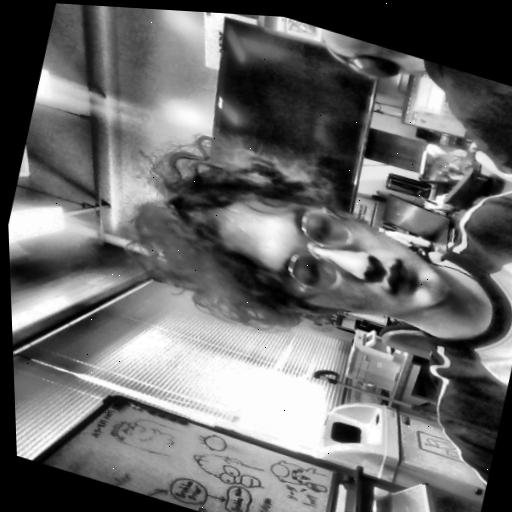Daifuku: (103, 104, 494, 393)
Not Daifuku: (308, 25, 438, 93)
